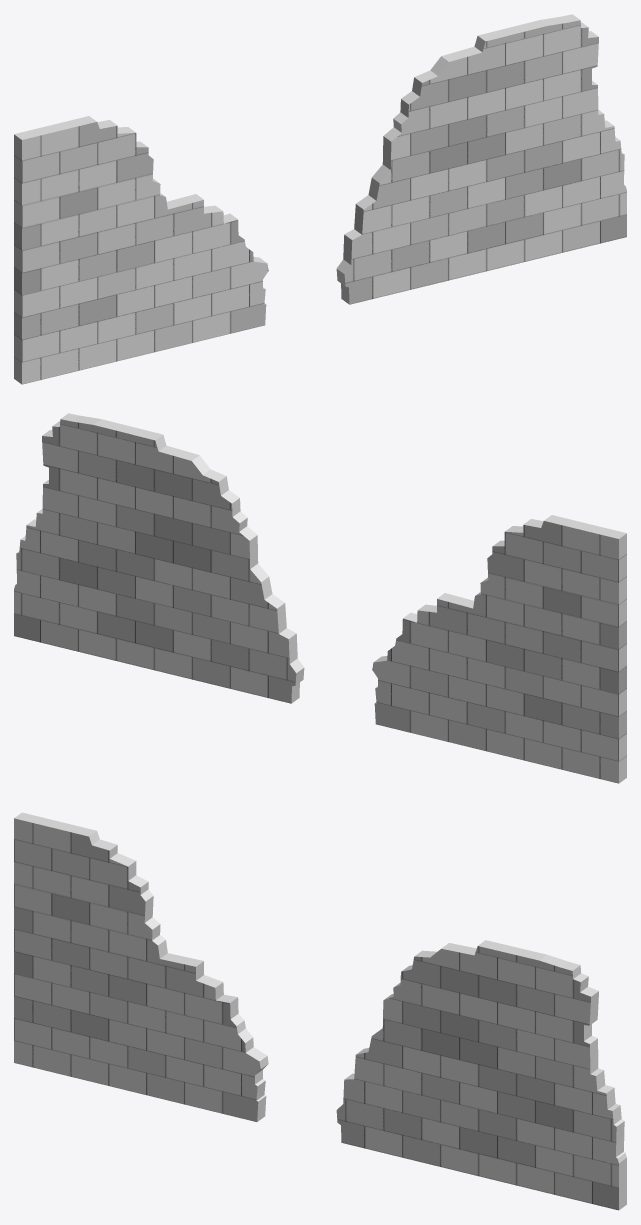
File: Wall.fbx
3 views of the same model, one above another, from view 1: azimuth 30°, elevation 25°; view 2: azimuth 150°, elevation 25°; view 3: azimuth 330°, elevation 25° (orthographic).
Parts seen in each view (by area): view 1: Wall2, Wall; view 2: Wall2, Wall; view 3: Wall2, Wall.
Boxes of the visible parts, <box> form: Wall2: <box>336,14,626,304</box>; Wall: <box>14,116,268,384</box>; Wall2: <box>14,413,304,703</box>; Wall: <box>372,515,626,783</box>; Wall2: <box>336,940,626,1210</box>; Wall: <box>14,812,268,1121</box>.
Bounding box in the file's own units: 12.93 × 5 × 0.2971.
